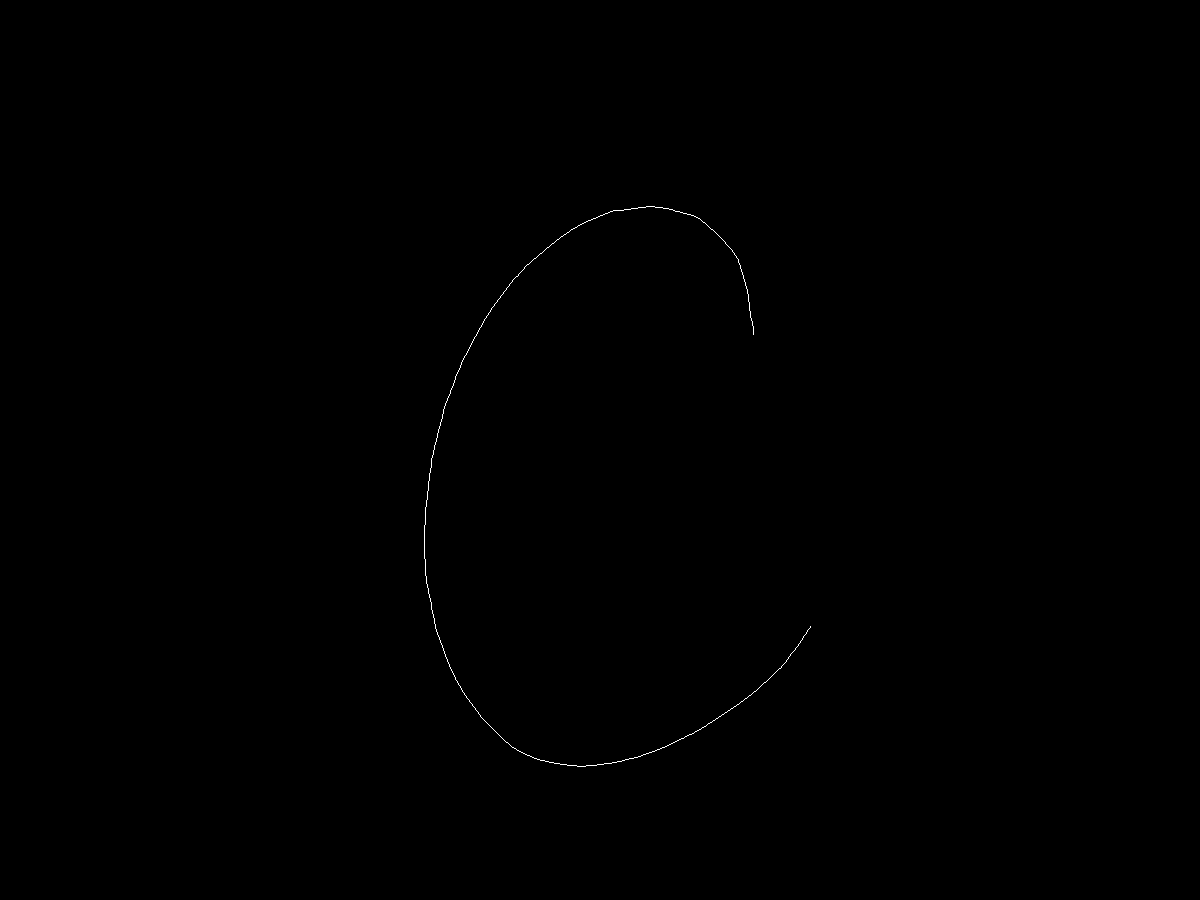dian1: (744, 325, 771, 344)
dian2: (794, 610, 818, 638)
